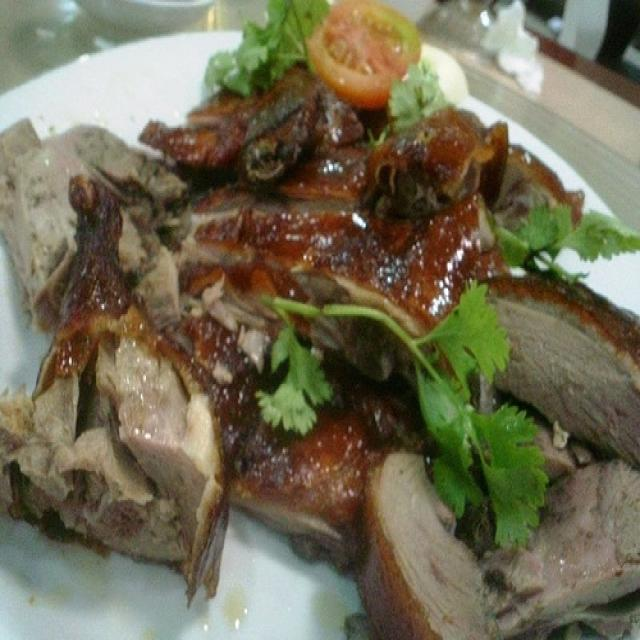烧串烤肉: (22, 25, 609, 608)
